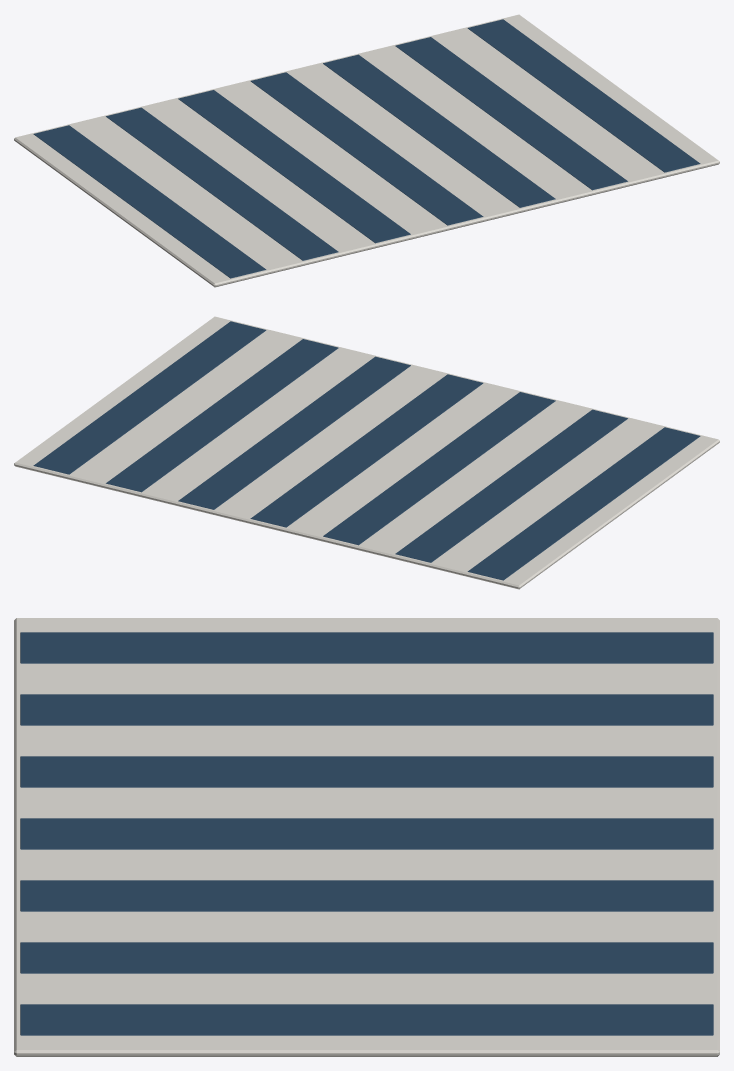
Rendered from i_rug_1.glb.
3 renders of one model, top to bottom at view 1: azimuth 30°, elevation 25°; view 2: azimuth 150°, elevation 25°; view 3: azimuth 270°, elevation 25°, orthographic. The views are drawn at different scales.
Parts seen in each view (by area): view 1: o, o.001, o.002, o.004, o.005, o.003, o.007, o.006; view 2: o, o.001, o.002, o.004, o.005, o.003, o.007, o.006; view 3: o, o.001, o.002, o.003, o.004, o.005, o.006, o.007.
Part boxes in pixels (<box>): o: <box>14,14,719,287</box>; o.001: <box>33,125,266,278</box>; o.002: <box>106,107,338,260</box>; o.004: <box>250,72,483,225</box>; o.005: <box>323,54,555,207</box>; o.003: <box>178,90,410,243</box>; o.007: <box>467,19,700,172</box>; o.006: <box>395,37,627,190</box>; o: <box>14,316,719,589</box>; o.001: <box>467,427,700,580</box>; o.002: <box>395,409,627,562</box>; o.004: <box>250,374,483,527</box>; o.005: <box>178,356,410,509</box>; o.003: <box>323,392,555,545</box>; o.007: <box>33,321,266,474</box>; o.006: <box>106,339,338,492</box>; o: <box>14,618,719,1056</box>; o.001: <box>20,632,713,663</box>; o.002: <box>20,694,713,725</box>; o.003: <box>20,756,713,787</box>; o.004: <box>20,818,713,849</box>; o.005: <box>20,880,713,911</box>; o.006: <box>20,942,713,973</box>; o.007: <box>20,1004,713,1035</box>.
Size of the model in its own units: 1.6 by 0.013 by 1.1.
